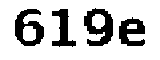1: (47, 5, 81, 51)
6: (11, 7, 46, 51)
9: (81, 8, 117, 50)
e: (122, 20, 146, 50)
